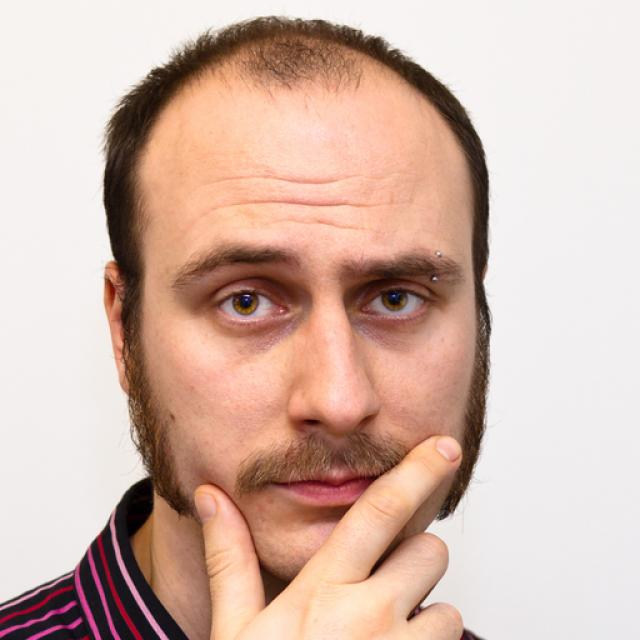Wrinkle: (207, 159, 384, 194), (215, 190, 408, 218), (270, 210, 370, 237)
